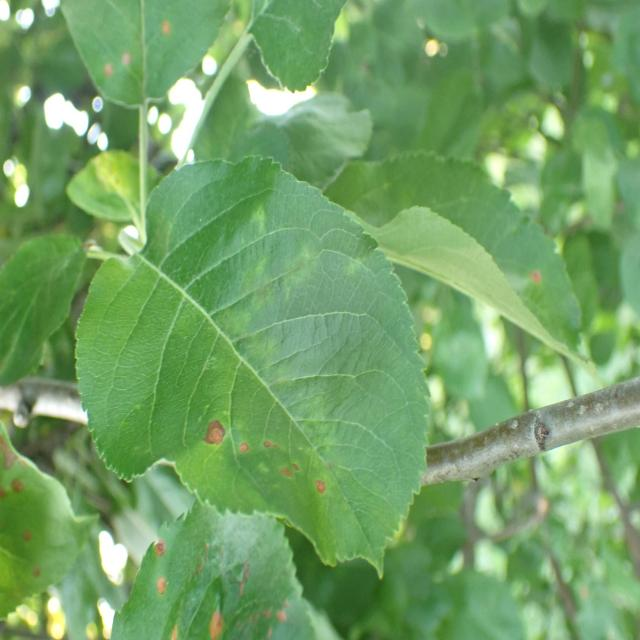frog-eye-leaf-spot: (75, 153, 432, 579), (110, 499, 319, 639)
